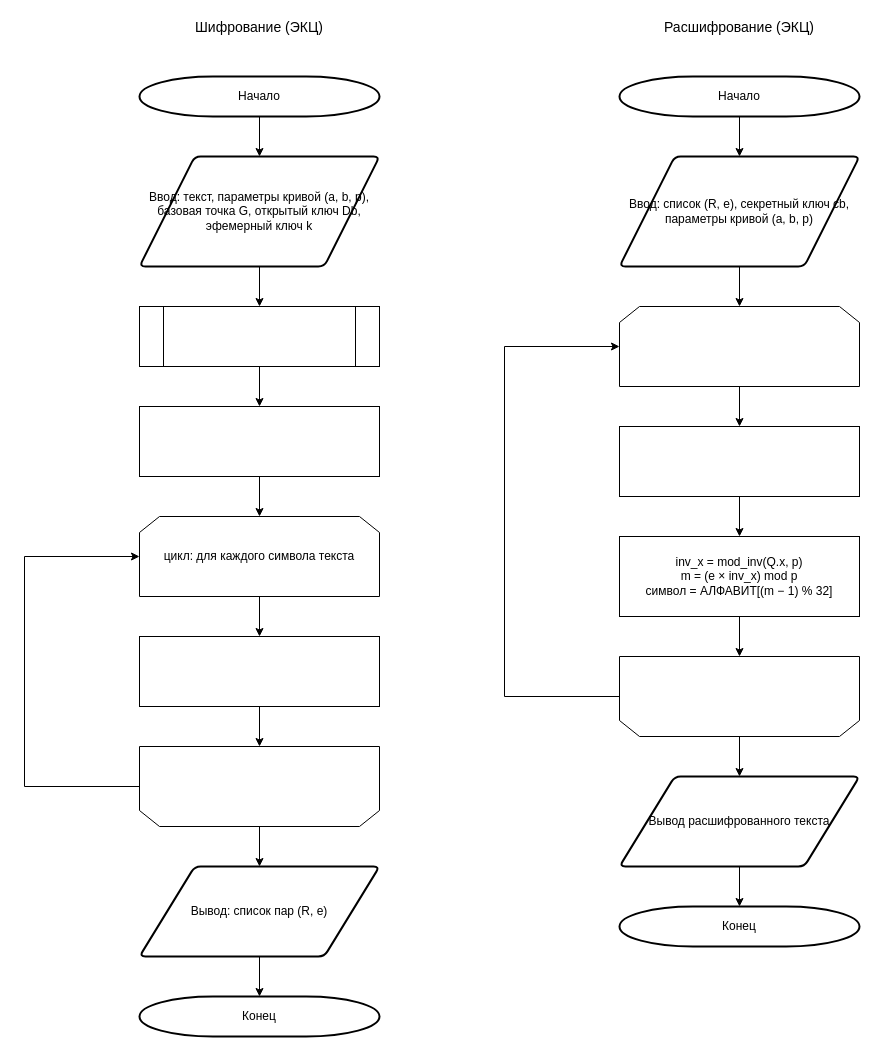
The diagram is 878 pixels wide and 1054 high, and some of its shapes have lost their labels. Here are the shapes that lost their labels. From the top down, the box of each, then its label:
(138, 306, 380, 366): replace_special_chars: замена спецсимволов кодами; uppercase
(618, 306, 860, 386): цикл: для каждой пары (R, e)
(138, 406, 380, 476): R = scalar_mult(k, G, a, p) P_point = scalar_mult(k, Db, a, p)
(618, 426, 860, 496): Q = scalar_mult(cb, R, a, p) (Q = cb × R = k × Db = P_point)
(138, 636, 380, 706): m = АЛФАВИТ.index(символ) + 1 e = (m × P_point.x) mod p
